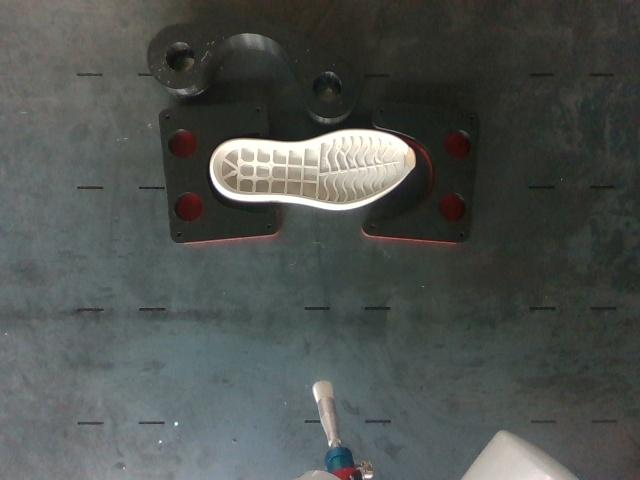shoes: (212, 131, 414, 204)
